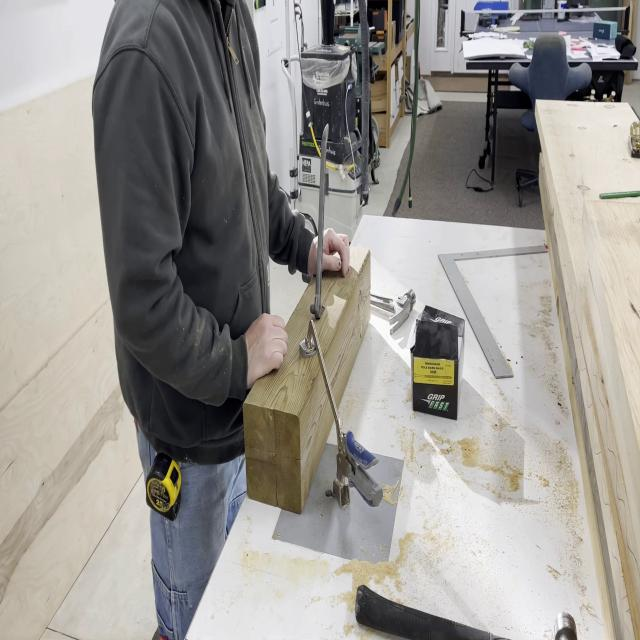hammer: (356, 583, 578, 640), (371, 288, 416, 336)
